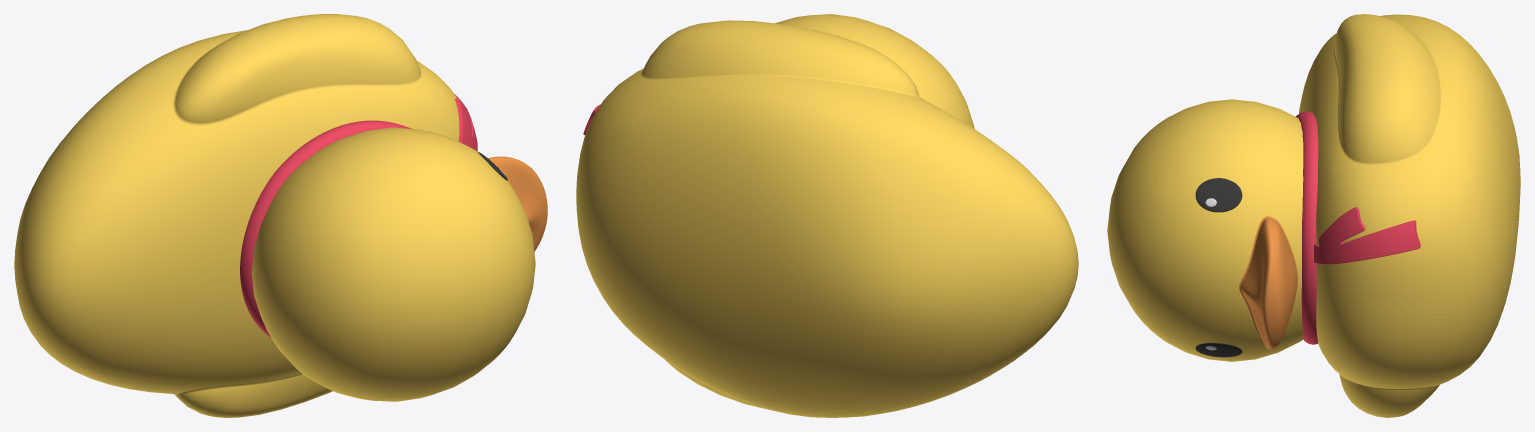
File: 小黄鸭.fbx
3 views of the same model, side by side, from view 1: azimuth 30°, elevation 25°; view 2: azimuth 150°, elevation 25°; view 3: azimuth 270°, elevation 25° (orthographic). The views are drawn at different scales.
Visible parts, largest first — view 1: 物件_6, 物件_7, 物件_5, 物件_8; view 2: 物件_6; view 3: 物件_6, 物件_5, 物件_8, 物件_7, 物件_4, 物件_1.
Part boxes in pixels (x1,y1,x2,y2): 物件_6: (14,14,535,417); 物件_7: (240,120,411,337); 物件_5: (488,156,547,251); 物件_8: (454,94,477,151); 物件_6: (576,14,1078,417); 物件_6: (1107,14,1520,417); 物件_5: (1239,216,1297,349); 物件_8: (1314,207,1420,264); 物件_7: (1295,111,1318,344); 物件_4: (1195,178,1242,212); 物件_1: (1195,342,1242,357).
Bounding box in the file's own units: 126 × 94.31 × 99.95.
